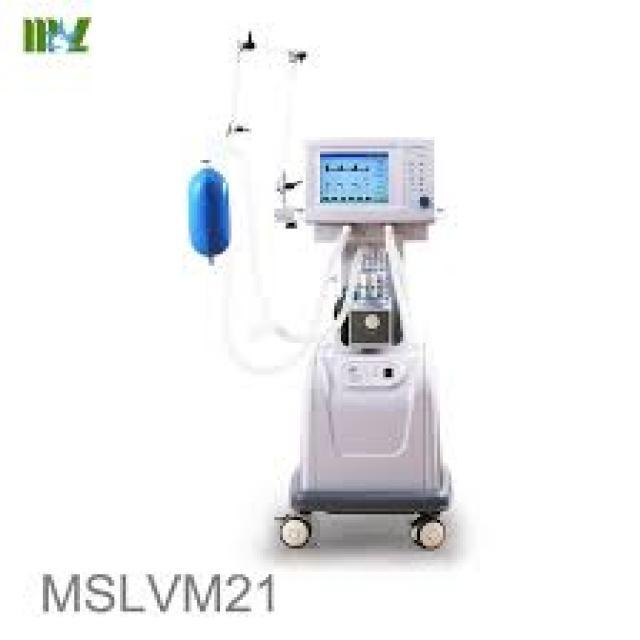ventilator: (197, 28, 486, 558)
